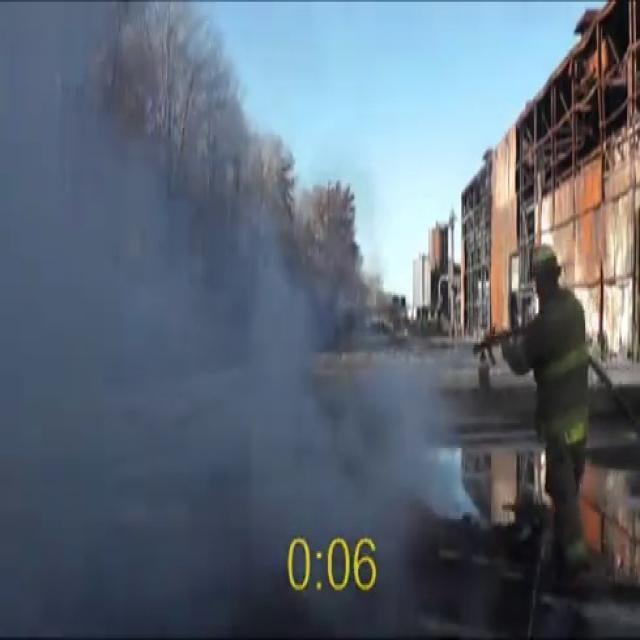Smoke: (0, 9, 452, 614)
